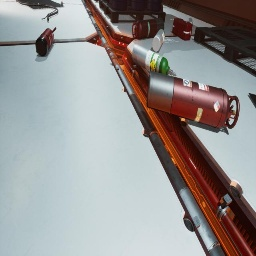0: (132, 44, 177, 76), (152, 29, 165, 52), (187, 18, 193, 30)
FireExtinguisher ]: (36, 27, 56, 56)
FirstAidBox ,: (172, 18, 193, 40)
NitrogenTank ,: (147, 71, 240, 129), (132, 18, 164, 40), (161, 4, 163, 11), (95, 0, 99, 2)
